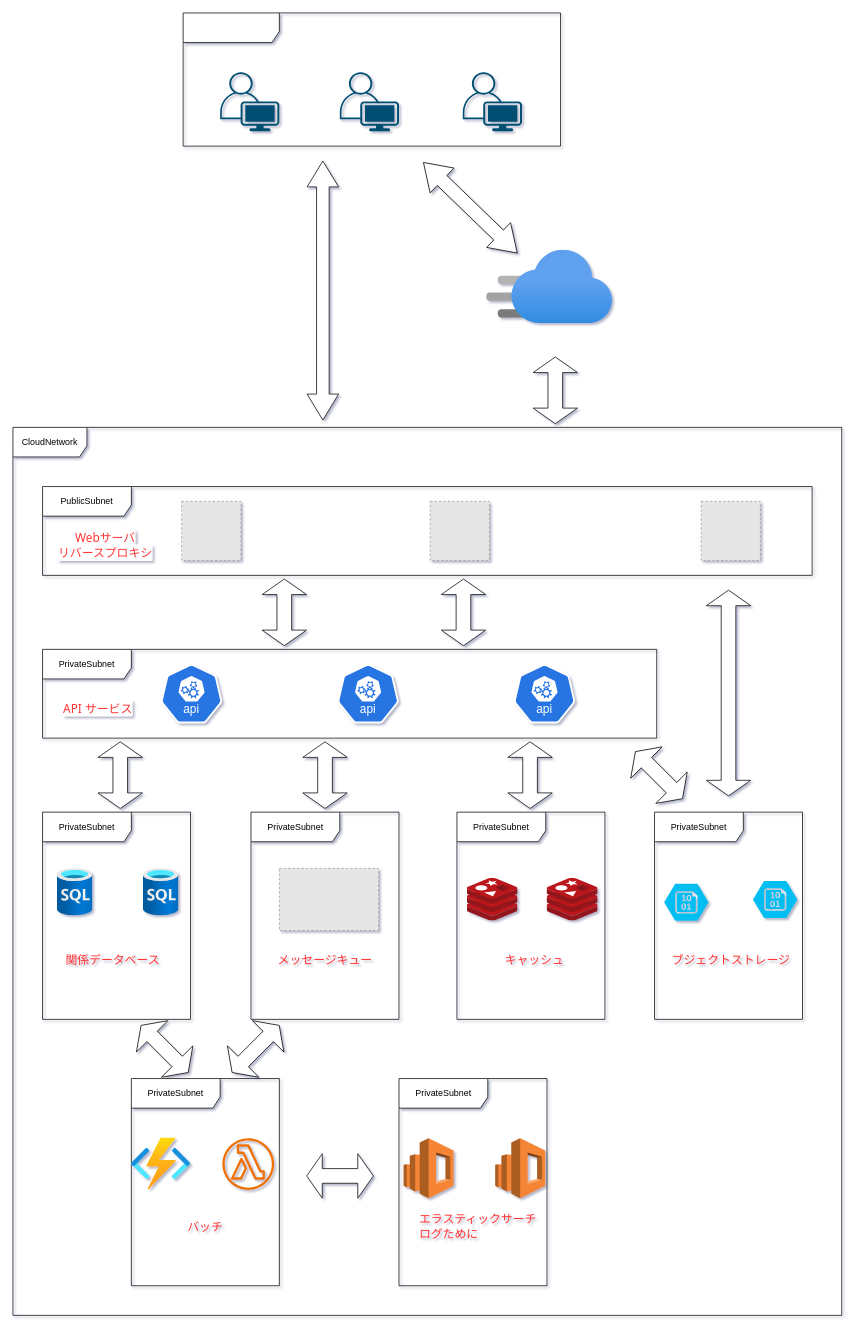
Some shapes in this 859 by 1333 pixel diagram are drawn without their labels. Grey dashed boxes stand in for pictures. The centre of each missing label's shape, as x and y in pixels:
CDN: point 549,286
User From World: point 371,79
